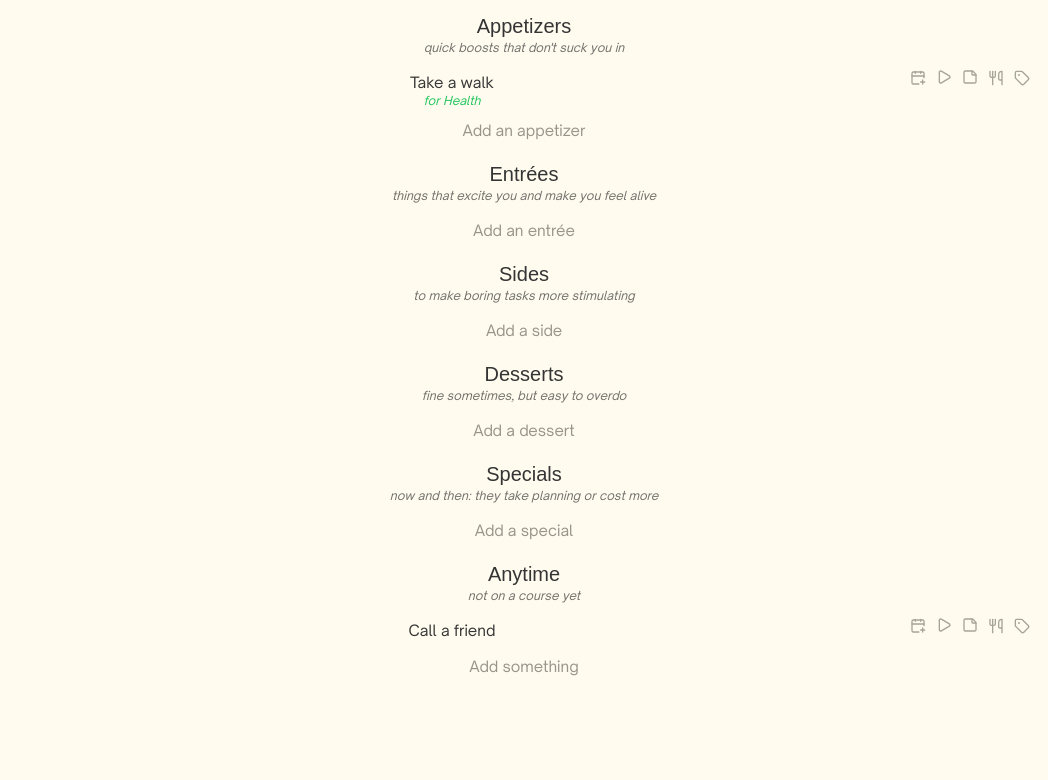
Scenario: DopamineMenuList › adds an item to the course whose blank line it was typed on
Type "Dance" into the field labelled "Add a dessert". click: (524, 431)
box: [12,413,1036,449]
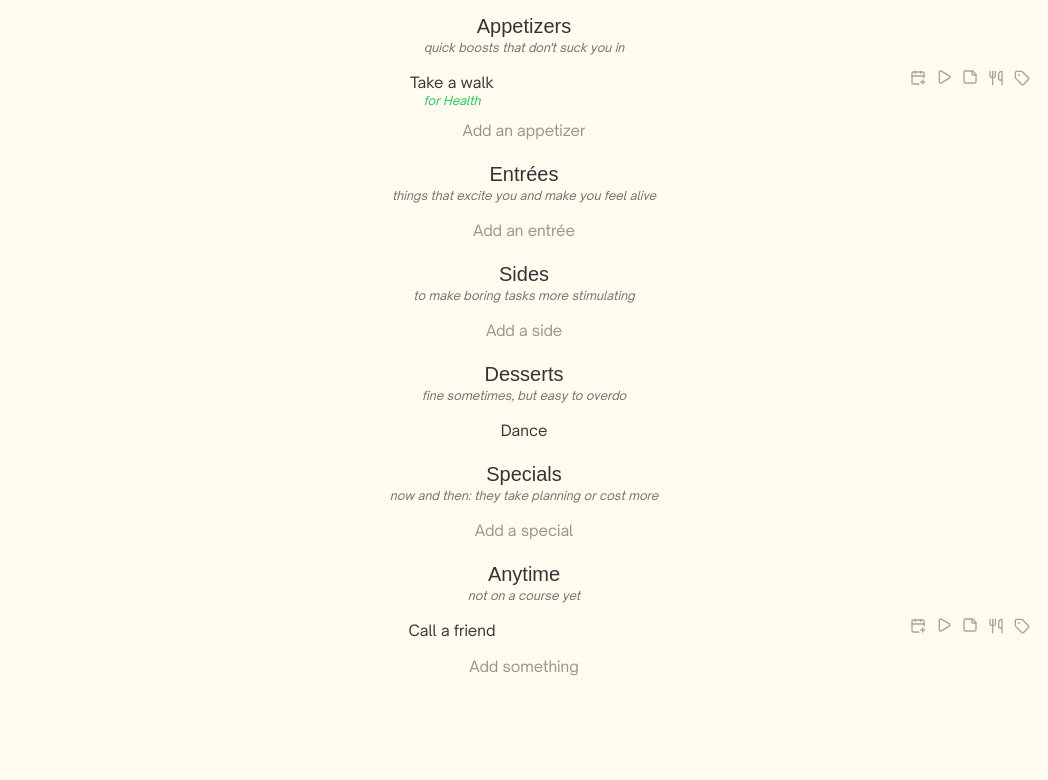
Submit the form named "Add a dessert" below "fine sometimes, but easy to overdo", box [12,413,1036,449]
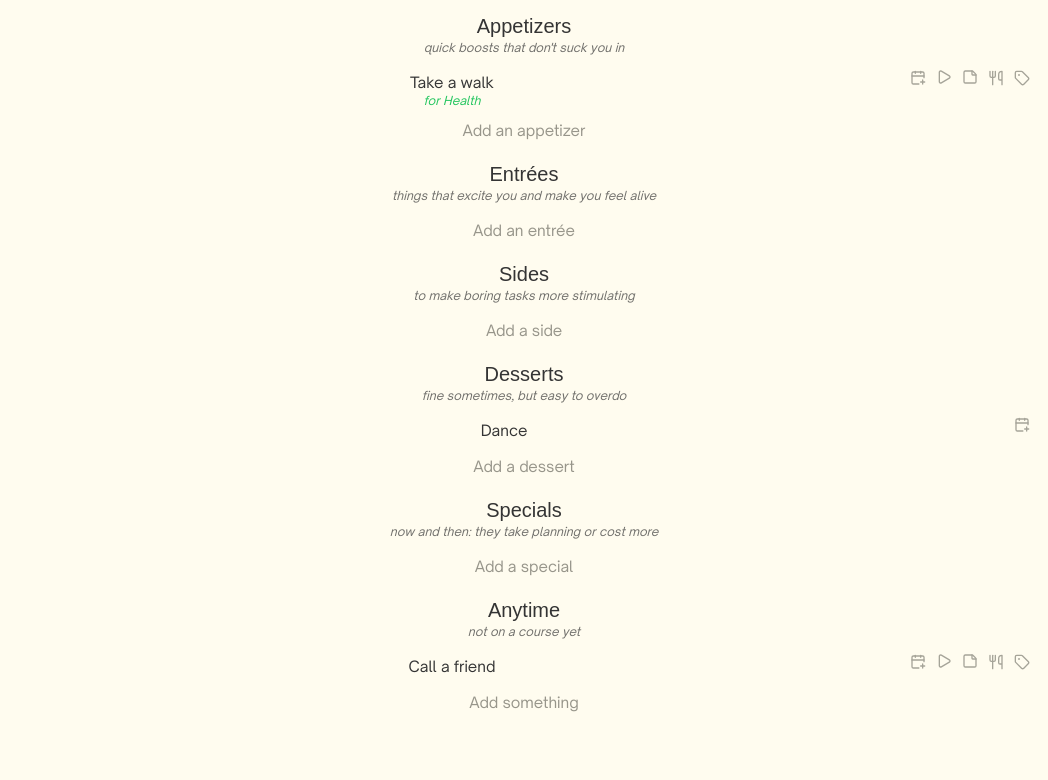
Check: the text "Dance" is shown, box [481,421,527,440]
